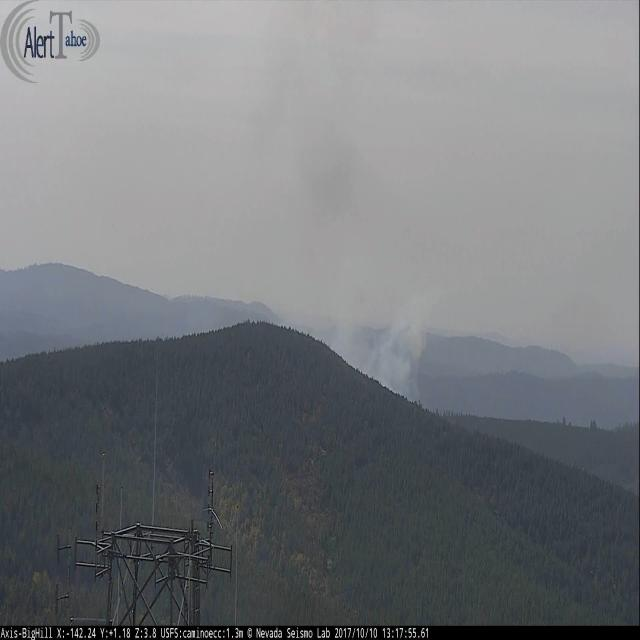smoke: (329, 285, 426, 412)
